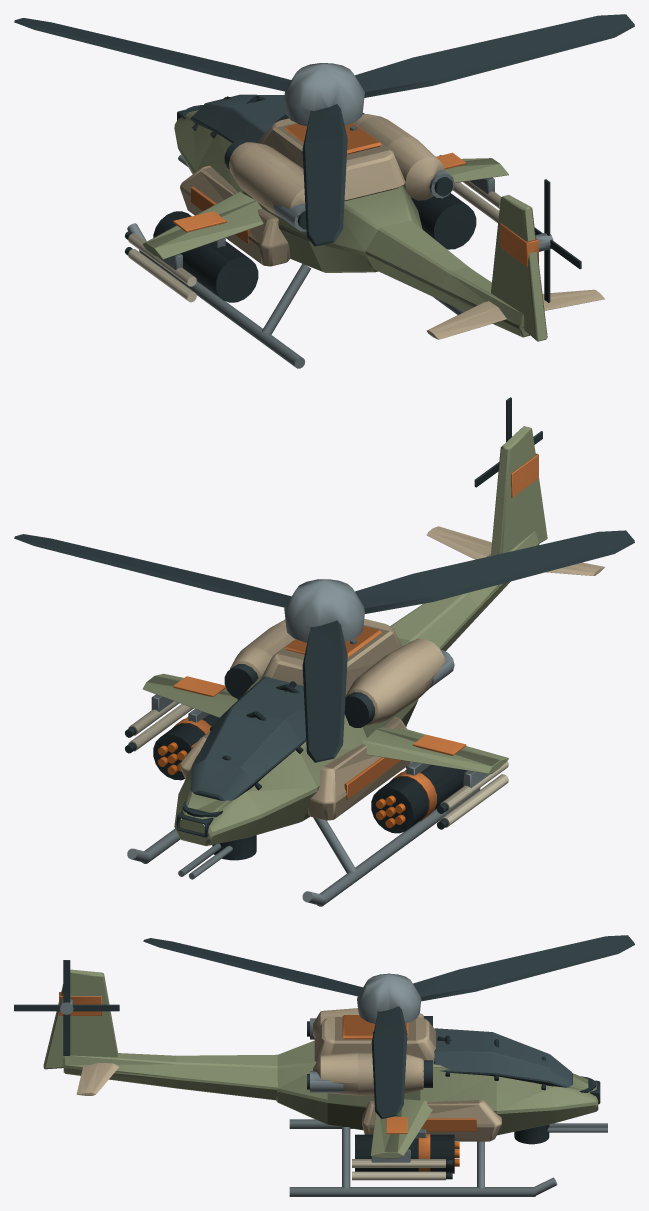
The model's file is KestrelGunship.glb.
3 views of the same model, one above another, from view 1: azimuth 30°, elevation 25°; view 2: azimuth 150°, elevation 25°; view 3: azimuth 270°, elevation 25° (orthographic). The views are drawn at different scales.
Parts seen in each view (by area): view 1: export_KestrelGunship_Fuselage, export_KestrelGunship_Fan_Rotor0_Spinner; view 2: export_KestrelGunship_Fuselage, export_KestrelGunship_Fan_Rotor0_Spinner; view 3: export_KestrelGunship_Fuselage, export_KestrelGunship_Fan_Rotor0_Spinner.
Boxes of the visible parts, bbox=[...] form: export_KestrelGunship_Fuselage: bbox=[125, 94, 604, 368]; export_KestrelGunship_Fan_Rotor0_Spinner: bbox=[14, 14, 634, 246]; export_KestrelGunship_Fuselage: bbox=[125, 397, 604, 906]; export_KestrelGunship_Fan_Rotor0_Spinner: bbox=[14, 530, 634, 762]; export_KestrelGunship_Fuselage: bbox=[14, 960, 607, 1196]; export_KestrelGunship_Fan_Rotor0_Spinner: bbox=[143, 935, 634, 1119].
Size of the model in its own units: 4.48 by 2.37 by 6.36.
